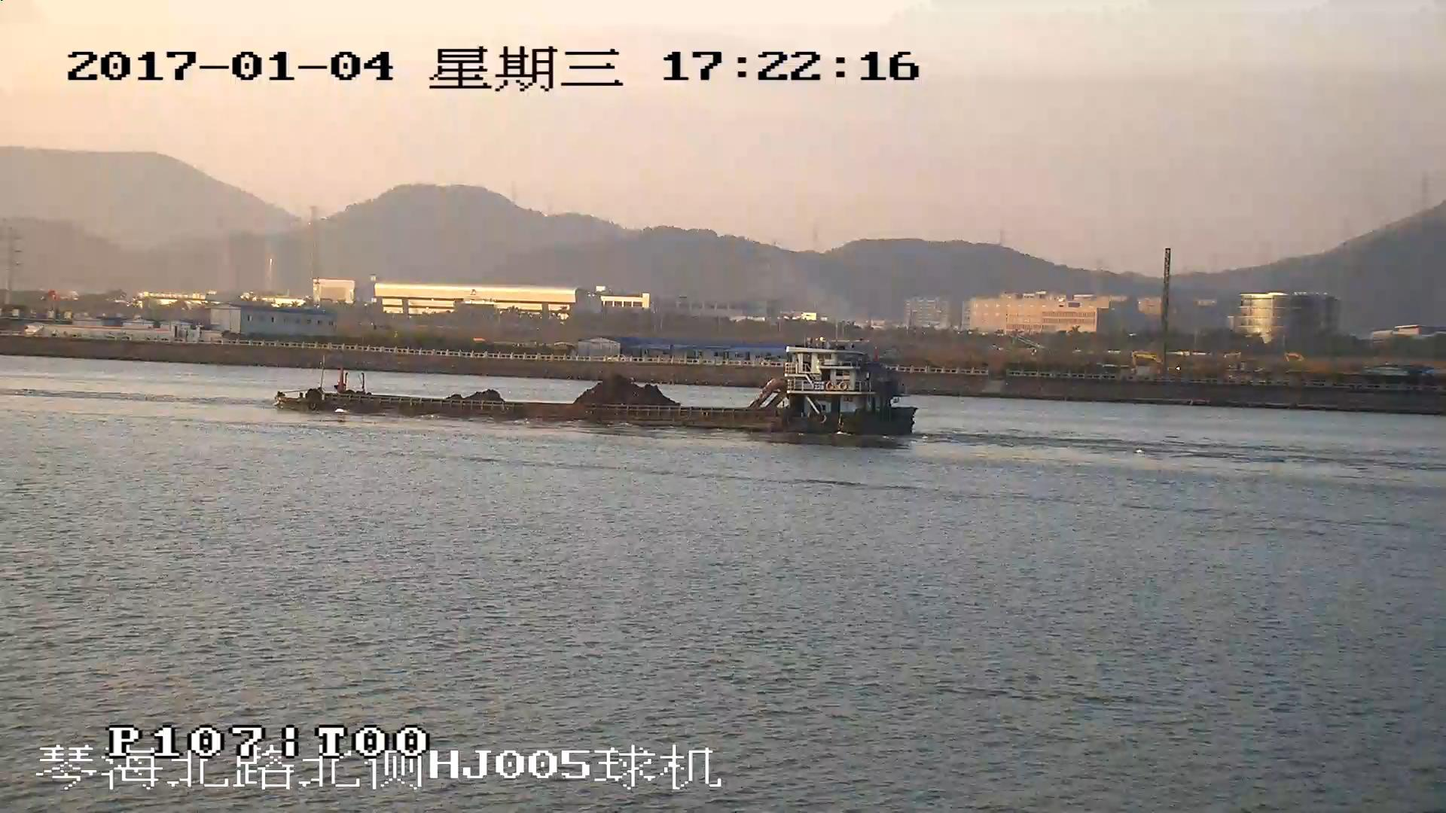ore carrier: (277, 346, 916, 434)
